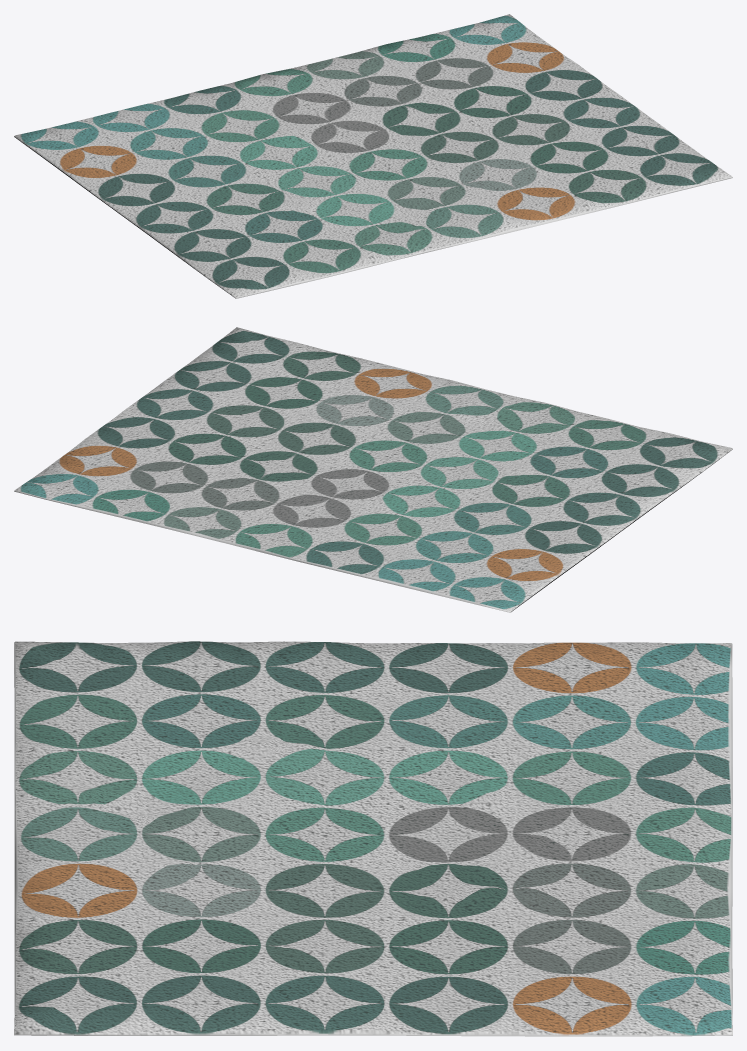
Rendered from circle_print_rug.gltf.
3 renders of one model, top to bottom at view 1: azimuth 30°, elevation 25°; view 2: azimuth 150°, elevation 25°; view 3: azimuth 270°, elevation 25°, orthographic. The views are drawn at different scales.
Parts seen in each view (by area): view 1: rug; view 2: rug; view 3: rug.
Part boxes in pixels (x1,y1,x2,y2): rug: (14,14,732,298); rug: (14,327,732,612); rug: (14,641,732,1036).
Size of the model in its own units: 3.21 by 0.0499 by 2.49.
1 material, 1 textured.
